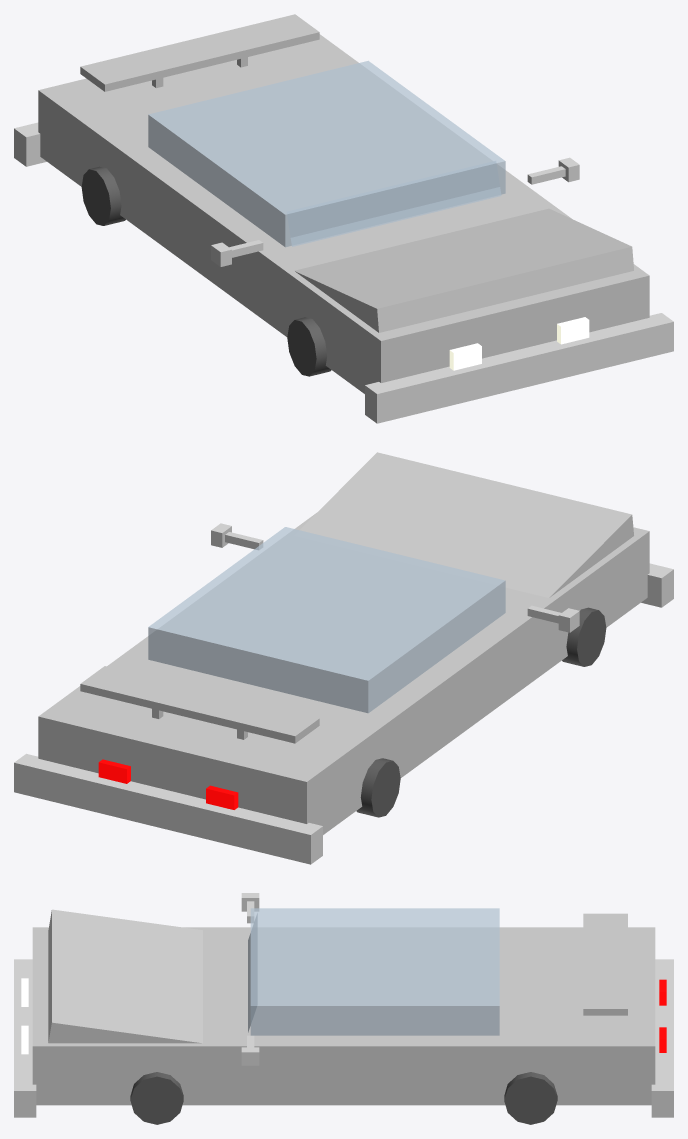
The model's file is sports.glb.
3 views of the same model, one above another, from view 1: azimuth 30°, elevation 25°; view 2: azimuth 150°, elevation 25°; view 3: azimuth 270°, elevation 25° (orthographic). The views are drawn at different scales.
Parts seen in each view (by area): view 1: sports, wheel_FL, wheel_RL; view 2: sports, wheel_RL, wheel_FL; view 3: sports, wheel_FR, wheel_RR.
Part boxes in pixels (x1,y1,x2,y2): sports: (14, 14, 673, 423); wheel_FL: (287, 317, 331, 376); wheel_RL: (81, 166, 125, 225); sports: (14, 452, 673, 864); wheel_RL: (356, 758, 400, 817); wheel_FL: (562, 607, 606, 666); sports: (14, 893, 673, 1117); wheel_FR: (130, 1072, 183, 1124); wheel_RR: (504, 1072, 557, 1124).
Size of the model in its own units: 2.54 by 0.77 by 4.45.
